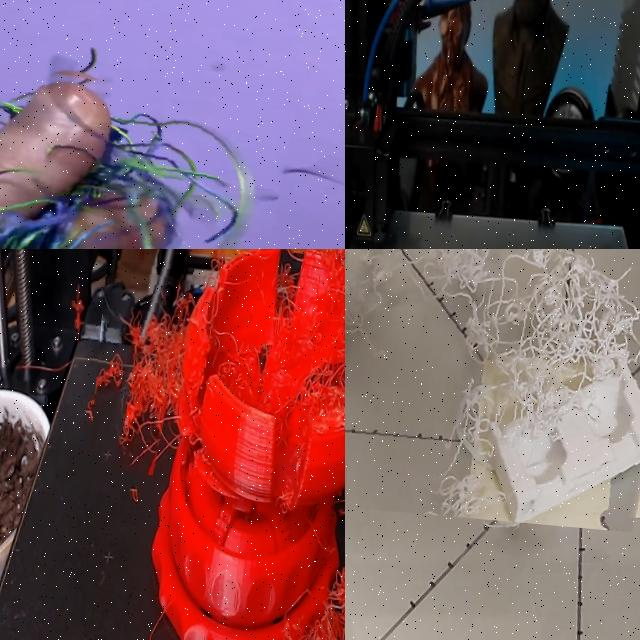spaghetti: (345, 249, 640, 536), (0, 51, 297, 249), (88, 253, 194, 477), (296, 267, 345, 640)
